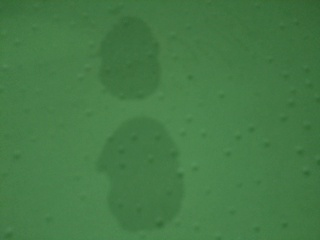Water_detected: (103, 38, 184, 200)
